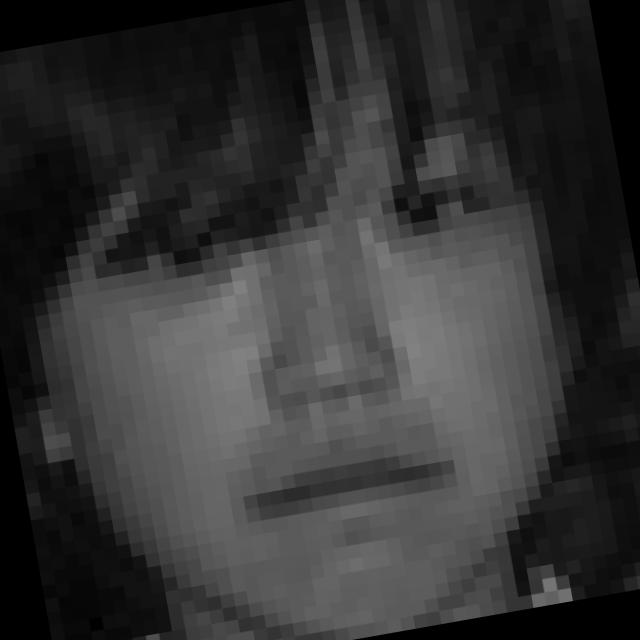neutral: (85, 76, 560, 581)
